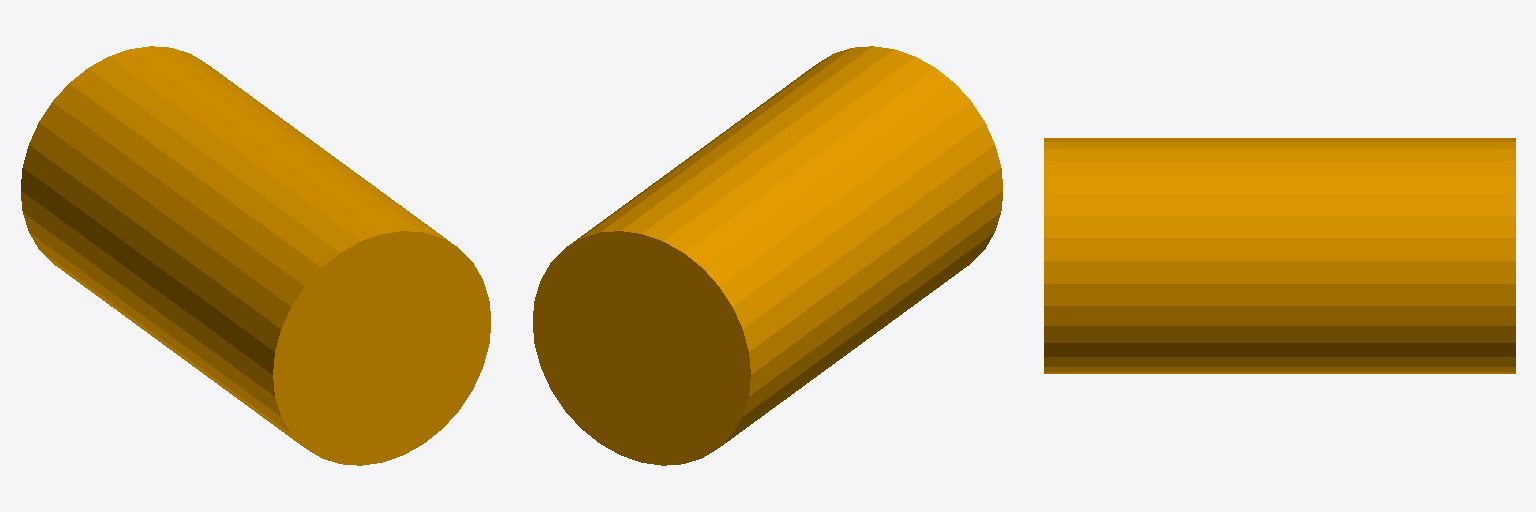
robot.urdf — ur_ft:
<?xml version="1.0" ?>
<!-- =================================================================================== -->
<!-- |    This document was autogenerated by xacro from ur_ft.urdf.xacro               | -->
<!-- |    EDITING THIS FILE BY HAND IS NOT RECOMMENDED                                 | -->
<!-- =================================================================================== -->
<robot name="ur_ft">
  <link name="world"/>
  <!--
    Base UR robot series xacro macro.

    NOTE this is NOT a URDF. It cannot directly be loaded by consumers
    expecting a flattened '.urdf' file. See the top-level '.xacro' for that
    (but note that .xacro must still be processed by the xacro command).

    This file models the base kinematic chain of a UR robot, which then gets
    parameterised by various configuration files to convert it into a UR3(e),
    UR5(e), UR10(e) or UR16e.

    NOTE the default kinematic parameters (i.e., link lengths, frame locations,
    offsets, etc) do not correspond to any particular robot. They are defaults
    only. There WILL be non-zero offsets between the Forward Kinematics results
    in TF (i.e., robot_state_publisher) and the values reported by the Teach
    Pendant.

    For accurate (and robot-specific) transforms, the 'kinematics_parameters_file'
    parameter MUST point to a .yaml file containing the appropriate values for
    the targeted robot.

    If using the UniversalRobots/Universal_Robots_ROS_Driver, follow the steps
    described in the readme of that repository to extract the kinematic
    calibration from the controller and generate the required .yaml file.

    Main author of the migration to yaml configs [author].

    Contributors to previous versions (in no particular order)

     - [author]
     - [author]
     - [author]
     - [author]
     - [author]
     - [author]
     - [author]
     - [author]
     - [author]
     - [author]
     - [author]
     - [author]
     - [author]
     - [author]
     - [author]
     - [author]
     - [author]
     - [author]
     - [author]
  -->
  <!--
    NOTE the macro defined in this file is NOT part of the public API of this
          package. Users CANNOT rely on this file being available, or stored in
          this location. Nor can they rely on the existence of the macro.
  -->
  <ros2_control name="ur" type="system">
    <hardware>
      <plugin>gazebo_ros2_control/GazeboSystem</plugin>
    </hardware>
    <joint name="shoulder_pan_joint">
      <command_interface name="position">
        <param name="min">{-2*pi}</param>
        <param name="max">{2*pi}</param>
      </command_interface>
      <command_interface name="velocity">
        <param name="min">-3.15</param>
        <param name="max">3.15</param>
      </command_interface>
      <state_interface name="position">
        <!-- initial position for the FakeSystem and simulation -->
        <param name="initial_value">0.0</param>
      </state_interface>
      <state_interface name="velocity"/>
      <state_interface name="effort"/>
    </joint>
    <joint name="shoulder_lift_joint">
      <command_interface name="position">
        <param name="min">{-2*pi}</param>
        <param name="max">{2*pi}</param>
      </command_interface>
      <command_interface name="velocity">
        <param name="min">-3.15</param>
        <param name="max">3.15</param>
      </command_interface>
      <state_interface name="position">
        <!-- initial position for the FakeSystem and simulation -->
        <param name="initial_value">-1.57</param>
      </state_interface>
      <state_interface name="velocity"/>
      <state_interface name="effort"/>
    </joint>
    <joint name="elbow_joint">
      <command_interface name="position">
        <param name="min">{-pi}</param>
        <param name="max">{pi}</param>
      </command_interface>
      <command_interface name="velocity">
        <param name="min">-3.15</param>
        <param name="max">3.15</param>
      </command_interface>
      <state_interface name="position">
        <!-- initial position for the FakeSystem and simulation -->
        <param name="initial_value">1.57</param>
      </state_interface>
      <state_interface name="velocity"/>
      <state_interface name="effort"/>
    </joint>
    <joint name="wrist_1_joint">
      <command_interface name="position">
        <param name="min">{-2*pi}</param>
        <param name="max">{2*pi}</param>
      </command_interface>
      <command_interface name="velocity">
        <param name="min">-3.2</param>
        <param name="max">3.2</param>
      </command_interface>
      <state_interface name="position">
        <!-- initial position for the FakeSystem and simulation -->
        <param name="initial_value">-1.57</param>
      </state_interface>
      <state_interface name="velocity"/>
      <state_interface name="effort"/>
    </joint>
    <joint name="wrist_2_joint">
      <command_interface name="position">
        <param name="min">{-2*pi}</param>
        <param name="max">{2*pi}</param>
      </command_interface>
      <command_interface name="velocity">
        <param name="min">-3.2</param>
        <param name="max">3.2</param>
      </command_interface>
      <state_interface name="position">
        <!-- initial position for the FakeSystem and simulation -->
        <param name="initial_value">-1.57</param>
      </state_interface>
      <state_interface name="velocity"/>
      <state_interface name="effort"/>
    </joint>
    <joint name="wrist_3_joint">
      <command_interface name="position">
        <param name="min">{-2*pi}</param>
        <param name="max">{2*pi}</param>
      </command_interface>
      <command_interface name="velocity">
        <param name="min">-3.2</param>
        <param name="max">3.2</param>
      </command_interface>
      <state_interface name="position">
        <!-- initial position for the FakeSystem and simulation -->
        <param name="initial_value">0.0</param>
      </state_interface>
      <state_interface name="velocity"/>
      <state_interface name="effort"/>
    </joint>
  </ros2_control>
  <!-- Add URDF transmission elements (for ros_control) -->
  <!--<xacro:ur_arm_transmission prefix="${prefix}" hw_interface="${transmission_hw_interface}" />-->
  <!-- Placeholder for ros2_control transmission which don't yet exist -->
  <!-- links -  main serial chain -->
  <link name="base_link"/>
  <link name="base_link_inertia">
    <visual>
      <origin rpy="0 0 3.141592653589793" xyz="0 0 0"/>
      <geometry>
        <mesh filename="file:///opt/ros/humble/share/ur_description/meshes/ur5e/visual/base.dae"/>
      </geometry>
    </visual>
    <collision>
      <origin rpy="0 0 3.141592653589793" xyz="0 0 0"/>
      <geometry>
        <mesh filename="file:///opt/ros/humble/share/ur_description/meshes/ur5e/collision/base.stl"/>
      </geometry>
    </collision>
    <inertial>
      <mass value="4.0"/>
      <origin rpy="0 0 0" xyz="0 0 0"/>
      <inertia ixx="0.00443333156" ixy="0.0" ixz="0.0" iyy="0.00443333156" iyz="0.0" izz="0.0072"/>
    </inertial>
  </link>
  <link name="shoulder_link">
    <visual>
      <origin rpy="0 0 3.141592653589793" xyz="0 0 0"/>
      <geometry>
        <mesh filename="file:///opt/ros/humble/share/ur_description/meshes/ur5e/visual/shoulder.dae"/>
      </geometry>
    </visual>
    <collision>
      <origin rpy="0 0 3.141592653589793" xyz="0 0 0"/>
      <geometry>
        <mesh filename="file:///opt/ros/humble/share/ur_description/meshes/ur5e/collision/shoulder.stl"/>
      </geometry>
    </collision>
    <inertial>
      <mass value="3.7"/>
      <origin rpy="0 0 0" xyz="0 0 0"/>
      <inertia ixx="0.010267495893" ixy="0.0" ixz="0.0" iyy="0.010267495893" iyz="0.0" izz="0.00666"/>
    </inertial>
  </link>
  <link name="upper_arm_link">
    <visual>
      <origin rpy="1.5707963267948966 0 -1.5707963267948966" xyz="0 0 0.138"/>
      <geometry>
        <mesh filename="file:///opt/ros/humble/share/ur_description/meshes/ur5e/visual/upperarm.dae"/>
      </geometry>
    </visual>
    <collision>
      <origin rpy="1.5707963267948966 0 -1.5707963267948966" xyz="0 0 0.138"/>
      <geometry>
        <mesh filename="file:///opt/ros/humble/share/ur_description/meshes/ur5e/collision/upperarm.stl"/>
      </geometry>
    </collision>
    <inertial>
      <mass value="8.393"/>
      <origin rpy="0 1.5707963267948966 0" xyz="-0.2125 0.0 0.138"/>
      <inertia ixx="0.1338857818623325" ixy="0.0" ixz="0.0" iyy="0.1338857818623325" iyz="0.0" izz="0.0151074"/>
    </inertial>
  </link>
  <link name="forearm_link">
    <visual>
      <origin rpy="1.5707963267948966 0 -1.5707963267948966" xyz="0 0 0.007"/>
      <geometry>
        <mesh filename="file:///opt/ros/humble/share/ur_description/meshes/ur5e/visual/forearm.dae"/>
      </geometry>
    </visual>
    <collision>
      <origin rpy="1.5707963267948966 0 -1.5707963267948966" xyz="0 0 0.007"/>
      <geometry>
        <mesh filename="file:///opt/ros/humble/share/ur_description/meshes/ur5e/collision/forearm.stl"/>
      </geometry>
    </collision>
    <inertial>
      <mass value="2.275"/>
      <origin rpy="0 1.5707963267948966 0" xyz="-0.1961 0.0 0.007"/>
      <inertia ixx="0.031209355099586295" ixy="0.0" ixz="0.0" iyy="0.031209355099586295" iyz="0.0" izz="0.004095"/>
    </inertial>
  </link>
  <link name="wrist_1_link">
    <visual>
      <origin rpy="1.5707963267948966 0 0" xyz="0 0 -0.127"/>
      <geometry>
        <mesh filename="file:///opt/ros/humble/share/ur_description/meshes/ur5e/visual/wrist1.dae"/>
      </geometry>
    </visual>
    <collision>
      <origin rpy="1.5707963267948966 0 0" xyz="0 0 -0.127"/>
      <geometry>
        <mesh filename="file:///opt/ros/humble/share/ur_description/meshes/ur5e/collision/wrist1.stl"/>
      </geometry>
    </collision>
    <inertial>
      <mass value="1.219"/>
      <origin rpy="0 0 0" xyz="0 0 0"/>
      <inertia ixx="0.0025598989760400002" ixy="0.0" ixz="0.0" iyy="0.0025598989760400002" iyz="0.0" izz="0.0021942"/>
    </inertial>
  </link>
  <link name="wrist_2_link">
    <visual>
      <origin rpy="0 0 0" xyz="0 0 -0.0997"/>
      <geometry>
        <mesh filename="file:///opt/ros/humble/share/ur_description/meshes/ur5e/visual/wrist2.dae"/>
      </geometry>
    </visual>
    <collision>
      <origin rpy="0 0 0" xyz="0 0 -0.0997"/>
      <geometry>
        <mesh filename="file:///opt/ros/humble/share/ur_description/meshes/ur5e/collision/wrist2.stl"/>
      </geometry>
    </collision>
    <inertial>
      <mass value="1.219"/>
      <origin rpy="0 0 0" xyz="0 0 0"/>
      <inertia ixx="0.0025598989760400002" ixy="0.0" ixz="0.0" iyy="0.0025598989760400002" iyz="0.0" izz="0.0021942"/>
    </inertial>
  </link>
  <link name="wrist_3_link">
    <visual>
      <origin rpy="1.5707963267948966 0 0" xyz="0 0 -0.0989"/>
      <geometry>
        <mesh filename="file:///opt/ros/humble/share/ur_description/meshes/ur5e/visual/wrist3.dae"/>
      </geometry>
    </visual>
    <collision>
      <origin rpy="1.5707963267948966 0 0" xyz="0 0 -0.0989"/>
      <geometry>
        <mesh filename="file:///opt/ros/humble/share/ur_description/meshes/ur5e/collision/wrist3.stl"/>
      </geometry>
    </collision>
    <inertial>
      <mass value="0.1879"/>
      <origin rpy="0 0 0" xyz="0.0 0.0 -0.0229"/>
      <inertia ixx="9.890410052167731e-05" ixy="0.0" ixz="0.0" iyy="9.890410052167731e-05" iyz="0.0" izz="0.0001321171875"/>
    </inertial>
  </link>
  <!-- base_joint fixes base_link to the environment -->
  <joint name="base_joint" type="fixed">
    <origin rpy="0.0 0.0 0.0" xyz="0.0 0.0 1.0"/>
    <parent link="world"/>
    <child link="base_link"/>
  </joint>
  <!-- joints - main serial chain -->
  <joint name="base_link-base_link_inertia" type="fixed">
    <parent link="base_link"/>
    <child link="base_link_inertia"/>
    <!-- 'base_link' is REP-103 aligned (so X+ forward), while the internal
           frames of the robot/controller have X+ pointing backwards.
           Use the joint between 'base_link' and 'base_link_inertia' (a dummy
           link/frame) to introduce the necessary rotation over Z (of pi rad).
      -->
    <origin rpy="0 0 3.141592653589793" xyz="0 0 0"/>
  </joint>
  <joint name="shoulder_pan_joint" type="revolute">
    <parent link="base_link_inertia"/>
    <child link="shoulder_link"/>
    <origin rpy="0 0 0" xyz="0 0 0.1625"/>
    <axis xyz="0 0 1"/>
    <limit effort="150.0" lower="-6.283185307179586" upper="6.283185307179586" velocity="3.141592653589793"/>
    <dynamics damping="0" friction="0"/>
  </joint>
  <joint name="shoulder_lift_joint" type="revolute">
    <parent link="shoulder_link"/>
    <child link="upper_arm_link"/>
    <origin rpy="1.570796327 0 0" xyz="0 0 0"/>
    <axis xyz="0 0 1"/>
    <limit effort="150.0" lower="-6.283185307179586" upper="6.283185307179586" velocity="3.141592653589793"/>
    <dynamics damping="0" friction="0"/>
  </joint>
  <joint name="elbow_joint" type="revolute">
    <parent link="upper_arm_link"/>
    <child link="forearm_link"/>
    <origin rpy="0 0 0" xyz="-0.425 0 0"/>
    <axis xyz="0 0 1"/>
    <limit effort="150.0" lower="-3.141592653589793" upper="3.141592653589793" velocity="3.141592653589793"/>
    <dynamics damping="0" friction="0"/>
  </joint>
  <joint name="wrist_1_joint" type="revolute">
    <parent link="forearm_link"/>
    <child link="wrist_1_link"/>
    <origin rpy="0 0 0" xyz="-0.3922 0 0.1333"/>
    <axis xyz="0 0 1"/>
    <limit effort="28.0" lower="-6.283185307179586" upper="6.283185307179586" velocity="3.141592653589793"/>
    <dynamics damping="0" friction="0"/>
  </joint>
  <joint name="wrist_2_joint" type="revolute">
    <parent link="wrist_1_link"/>
    <child link="wrist_2_link"/>
    <origin rpy="1.570796327 0 0" xyz="0 -0.0997 -2.044881182297852e-11"/>
    <axis xyz="0 0 1"/>
    <limit effort="28.0" lower="-6.283185307179586" upper="6.283185307179586" velocity="3.141592653589793"/>
    <dynamics damping="0" friction="0"/>
  </joint>
  <joint name="wrist_3_joint" type="revolute">
    <parent link="wrist_2_link"/>
    <child link="wrist_3_link"/>
    <origin rpy="1.570796326589793 3.141592653589793 3.141592653589793" xyz="0 0.0996 -2.042830148012698e-11"/>
    <axis xyz="0 0 1"/>
    <limit effort="28.0" lower="-6.283185307179586" upper="6.283185307179586" velocity="3.141592653589793"/>
    <dynamics damping="0" friction="0"/>
  </joint>
  <link name="ft_frame"/>
  <joint name="wrist_3_link-ft_frame" type="fixed">
    <parent link="wrist_3_link"/>
    <child link="ft_frame"/>
    <origin rpy="3.141592653589793 0 0" xyz="0 0 0"/>
  </joint>
  <!-- ROS-Industrial 'base' frame - base_link to UR 'Base' Coordinates transform -->
  <link name="base"/>
  <joint name="base_link-base_fixed_joint" type="fixed">
    <!-- Note the rotation over Z of pi radians - as base_link is REP-103
           aligned (i.e., has X+ forward, Y+ left and Z+ up), this is needed
           to correctly align 'base' with the 'Base' coordinate system of
           the UR controller.
      -->
    <origin rpy="0 0 3.141592653589793" xyz="0 0 0"/>
    <parent link="base_link"/>
    <child link="base"/>
  </joint>
  <!-- ROS-Industrial 'flange' frame - attachment point for EEF models -->
  <link name="flange"/>
  <joint name="wrist_3-flange" type="fixed">
    <parent link="wrist_3_link"/>
    <child link="flange"/>
    <origin rpy="0 -1.5707963267948966 -1.5707963267948966" xyz="0 0 0"/>
  </joint>
  <!-- ROS-Industrial 'tool0' frame - all-zeros tool frame -->
  <link name="tool0"/>
  <joint name="flange-tool0" type="fixed">
    <!-- default toolframe - X+ left, Y+ up, Z+ front -->
    <origin rpy="1.5707963267948966 0 1.5707963267948966" xyz="0 0 0"/>
    <parent link="flange"/>
    <child link="tool0"/>
  </joint>
  <!-- mount the fts to the robot -->
  <joint name="ft300_fix" type="fixed">
    <origin rpy="0 0 0" xyz="0 0 0"/>
    <parent link="tool0"/>
    <child link="ft300_mounting_plate"/>
  </joint>
  <!-- Link representing the FT300 force-torque sensor -->
  <link name="ft300_sensor">
    <inertial>
      <origin rpy="0 0 0" xyz="0 0 -0.017"/>
      <mass value="0.300"/>
      <inertia ixx="0.000262" ixy="0" ixz="1e-06" iyx="0" iyy="0.000265" iyz="1e-06" izx="-1e-06" izy="1e-06" izz="0.000219"/>
    </inertial>
    <visual>
      <origin rpy="0 0 0" xyz="0 0 0"/>
      <geometry>
        <mesh filename="file://[local-path]/ur_project_ros2/install/robotiq_ft_sensor_description/share/robotiq_ft_sensor_description/meshes/visual/robotiq_ft300.STL"/>
      </geometry>
      <material name="Robotiq-Black">
        <color rgba="0.2 0.2 0.2 1.0"/>
      </material>
    </visual>
    <collision>
      <origin rpy="0 0 0" xyz="0 0 0"/>
      <geometry>
        <mesh filename="file://[local-path]/ur_project_ros2/install/robotiq_ft_sensor_description/share/robotiq_ft_sensor_description/meshes/collision/robotiq_ft300.STL"/>
      </geometry>
    </collision>
  </link>
  <!-- Link representing the FT300 mounting plate -->
  <link name="ft300_mounting_plate">
    <visual>
      <origin rpy="0 0 0" xyz="0 0 0"/>
      <geometry>
        <mesh filename="file://[local-path]/ur_project_ros2/install/robotiq_ft_sensor_description/share/robotiq_ft_sensor_description/meshes/visual/mountings/robotiq_ft300-G-062-COUPLING_G-50-4M6-1D6_20181119.STL"/>
      </geometry>
      <material name="Robotiq-Grey">
        <color rgba="0.4 0.4 0.4 1.0"/>
      </material>
    </visual>
    <collision>
      <origin rpy="0 0 0" xyz="0 0 0"/>
      <geometry>
        <mesh filename="file://[local-path]/ur_project_ros2/install/robotiq_ft_sensor_description/share/robotiq_ft_sensor_description/meshes/collision/mountings/robotiq_ft300-G-062-COUPLING_G-50-4M6-1D6_20181119.STL"/>
      </geometry>
    </collision>
  </link>
  <!-- Connect force sensor with mounting/coupling plate -->
  <joint name="ft300_mounting_plate" type="fixed">
    <origin rpy="0 3.141592653589793 0" xyz="0 0 0.0415"/>
    <parent link="ft300_mounting_plate"/>
    <child link="ft300_sensor"/>
  </joint>
  <!-- FORCE REFERENCE FRAME _______________________________________________________________________________
            As specified in the documentation:
            - The Z axis passes through the center of the depression with positive direction in the tool direction.
            - The X axis traces a symmetric line centered on the connector; the positive direction
                points the opposite way away from the connector.
            - The Y axis uses the right hand thumb rule according to X-Z. -->
  <joint name="measurment_joint" type="fixed">
    <origin rpy="0 3.141592653589793 -1.5707963267948966" xyz="0 0 0"/>
    <parent link="ft300_sensor"/>
    <child link="robotiq_ft_frame_id"/>
  </joint>
  <link name="robotiq_ft_frame_id"/>
  <gazebo reference="ft300_sensor">
    <material>Gazebo/DarkGrey</material>
  </gazebo>
  <gazebo reference="ft300_mounting_plate">
    <material>Gazebo/Gray</material>
  </gazebo>
  <!-- FORCE REFERENCE FRAME _______________________________________________________________________________
    As specified in the documentation:
    - The Z axis passes through the center of the depression with positive direction in the tool direction.
    - The X axis traces a symmetric line centered on the connector; the positive direction
        points the opposite way away from the connector.
    - The Y axis uses the right hand thumb rule according to X-Z. -->
  <!-- gazebo only allows ft sensor in revolute joint, so we create one with upper limit and lower limit both equal 0 -->
  <joint name="ft300_sensor_joint" type="revolute">
    <origin rpy="0 3.141592653589793 -1.5707963267948966" xyz="0 0 0"/>
    <parent link="ft300_sensor"/>
    <child link="tip_link"/>
    <limit effort="1000" lower="0" upper="0" velocity="6.5"/>
  </joint>
  <link name="tip_link">
    <collision>
      <origin rpy="0 0 0" xyz="0 0 0.03"/>
      <geometry>
        <cylinder length="0.06" radius="0.015"/>
      </geometry>
      <material name="tip_link_color">
        <color rgba="0.0 0.0 0.0 1.0"/>
      </material>
    </collision>
    <visual>
      <origin rpy="0 0 0" xyz="0 0 0.03"/>
      <geometry>
        <cylinder length="0.06" radius="0.015"/>
      </geometry>
      <matertial name="tip_link_color">
        <color rgba="0.0 0.0 0.0 1.0"/>
      </matertial>
    </visual>
    <inertial>
      <origin rpy="0 0 0" xyz="0 0 0.03"/>
      <mass value="1.2"/>
      <inertia ixx="0.0004275" ixy="0.0" ixz="0.0" iyy="0.0004275" iyz="0.0" izz="0.00013499999999999997"/>
    </inertial>
  </link>
  <gazebo reference="ft300_sensor_joint">
    <provideFeedback>true</provideFeedback>
  </gazebo>
  <!-- gazebo plugin for ft sensor -->
  <gazebo>
    <plugin filename="libgazebo_ros_ft_sensor.so" name="ft300_sensor">
      <update_rate>50.0</update_rate>
      <joint_name>ft300_sensor_joint</joint_name>
    </plugin>
  </gazebo>
  <!-- we add the fake revolute joint to the ros2 control -->
  <!-- so that its joint_state can be broadcast to ROS2 topic -->
  <ros2_control name="ft_fake_joint_ros2_ctrl" type="system">
    <hardware>
      <plugin>gazebo_ros2_control/GazeboSystem</plugin>
    </hardware>
    <!-- joint interfaces -->
    <joint name="ft300_sensor_joint">
      <command_interface name="position"/>
      <state_interface name="position">
        <param name="initial_value">0.0</param>
      </state_interface>
    </joint>
  </ros2_control>
  <gazebo reference="world">
        </gazebo>
  <!-- Gazebo plugins -->
  <gazebo>
    <plugin filename="libgazebo_ros2_control.so" name="gazebo_ros2_control">
      <parameters>[local-path]/ur_project_ros2/install/ur_ft_description/share/ur_ft_description/config/controllers.yaml</parameters>
    </plugin>
  </gazebo>
</robot>

--- Facts derived from the render (not from the file) ---
The picture shows the robot from 3 angles, left to right: view 1: azimuth 30°, elevation 25°; view 2: azimuth 150°, elevation 25°; view 3: azimuth 270°, elevation 25°; orthographic projection.
Model ur_ft with 17 links and 16 joints (7 revolute, 9 fixed), rooted at world, posed every joint at zero.
Visible links, largest first — view 1: tip_link; view 2: tip_link; view 3: tip_link.
Boxes of the visible links, box(x1,y1,x2,y2) form: tip_link: box(21, 46, 490, 465); tip_link: box(533, 46, 1002, 465); tip_link: box(1044, 138, 1515, 373).
Size in the robot's own frame: 0.03 by 0.06 by 0.03 metres.
Geometry: only primitive shapes (box / cylinder / sphere) drawn; not drawn: 9 mesh visuals (reference in a form the renderer does not follow).